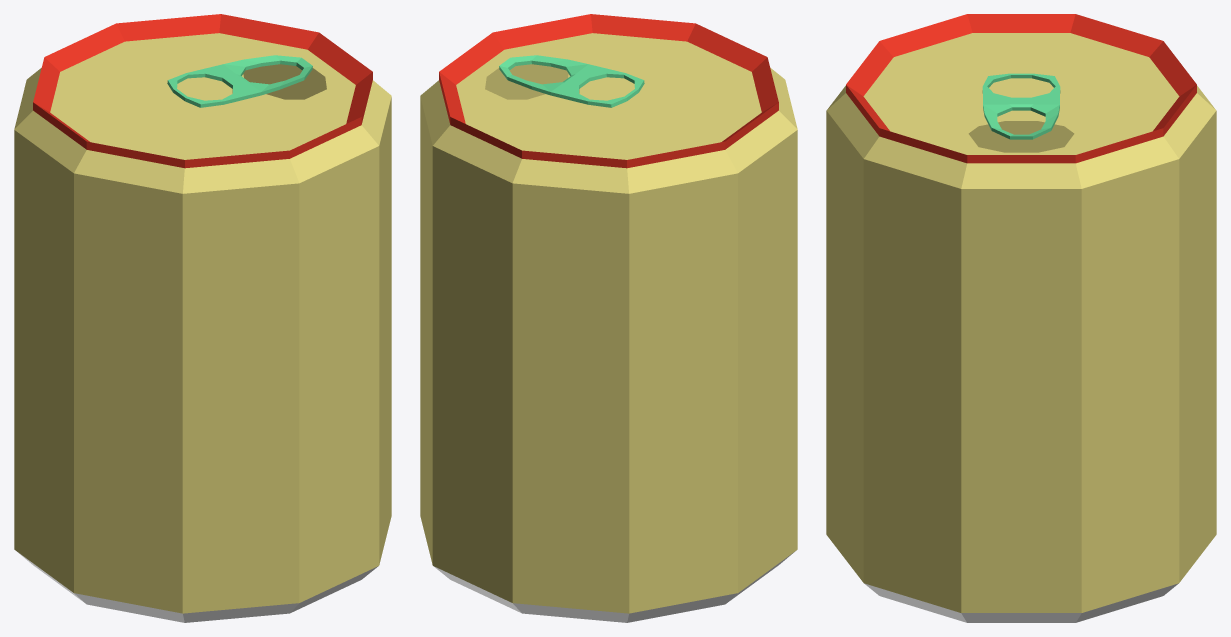
Rendered from Recycling_Can_v2.fbx.
3 renders of one model, left to right at view 1: azimuth 30°, elevation 25°; view 2: azimuth 150°, elevation 25°; view 3: azimuth 270°, elevation 25°, orthographic.
Visible parts, largest first — view 1: can, lid; view 2: can, lid; view 3: can, lid.
Part boxes in pixels (x1=…): can: x1=14, y1=14, x2=391, y2=622; lid: x1=167, y1=55, x2=312, y2=107; can: x1=420, y1=14, x2=797, y2=622; lid: x1=499, y1=55, x2=644, y2=107; can: x1=826, y1=14, x2=1216, y2=622; lid: x1=982, y1=73, x2=1060, y2=139.
Size of the model in its own units: 190 by 268 by 200.
